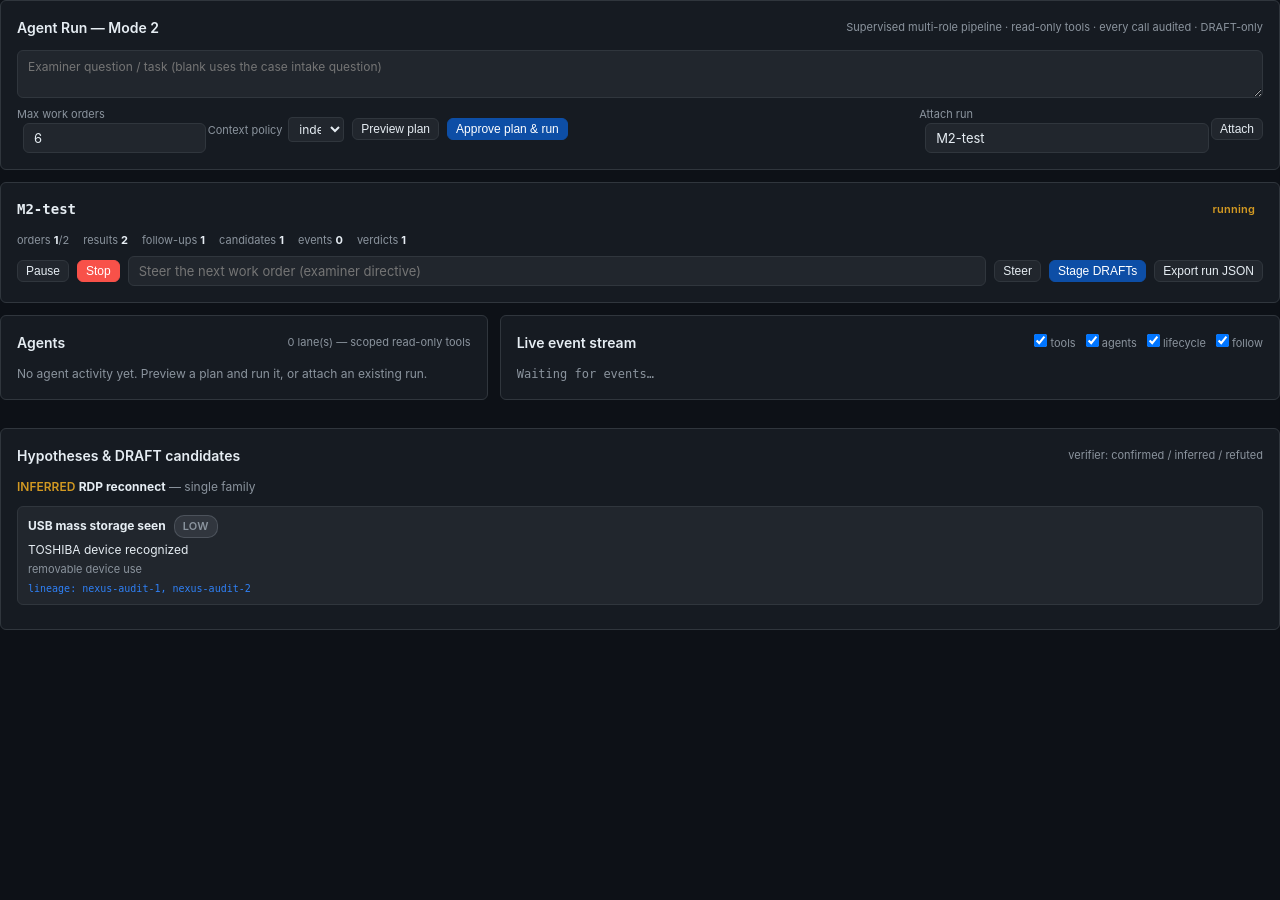
AgentRun (Mode 3) › renders verdicts, candidates with lineage and stages DRAFTs
expect the text "M2-test" is shown: met, box [17,198,76,220]
expect the text "RDP reconnect" is shown: met, box [79,479,166,494]
Click the button "Stage DRAFTs". click: click(1098, 271)
box: [1049,260,1146,282]
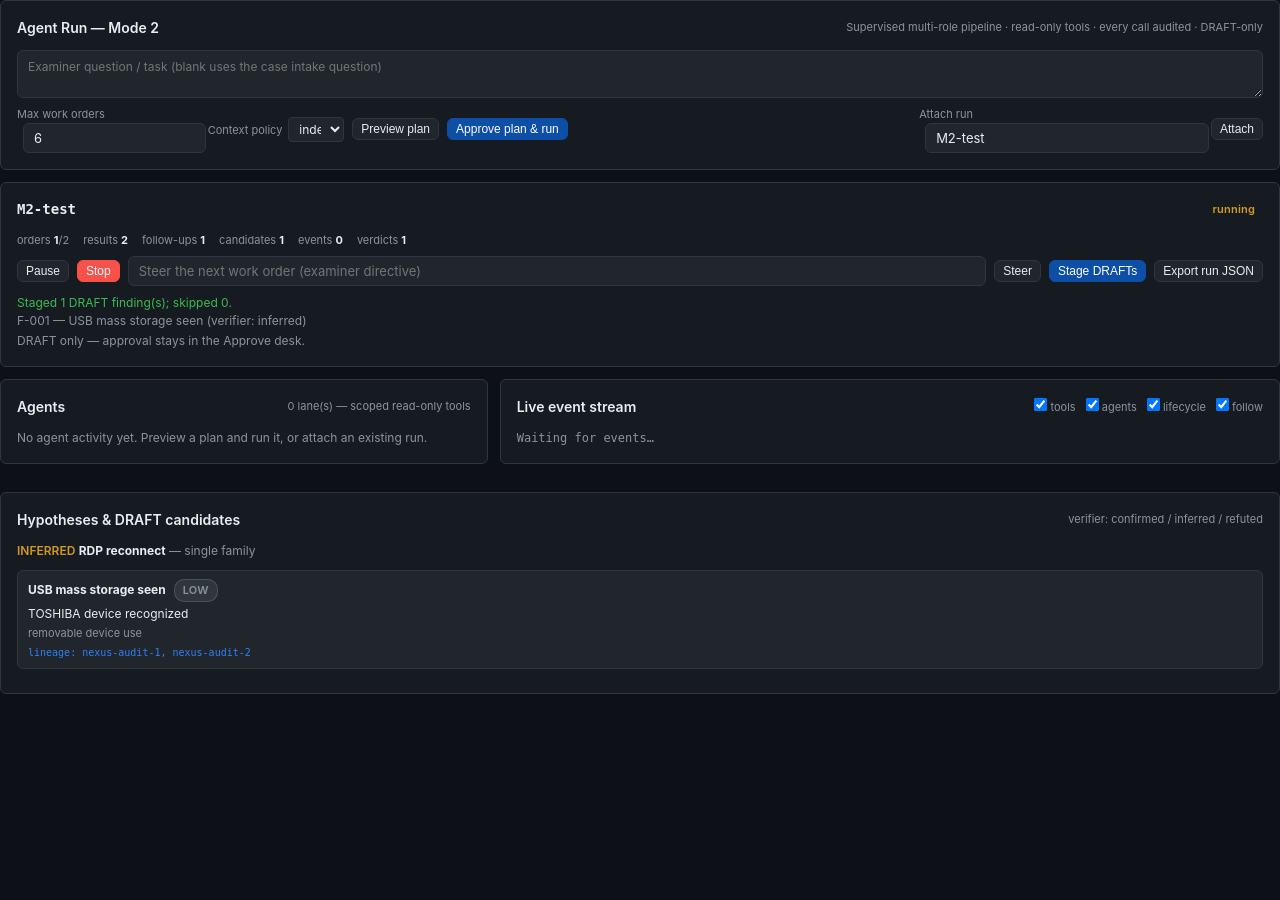
expect the text "Staged 1 DRAFT finding(s); skipped 0." is shown: met, box [17,295,232,310]
